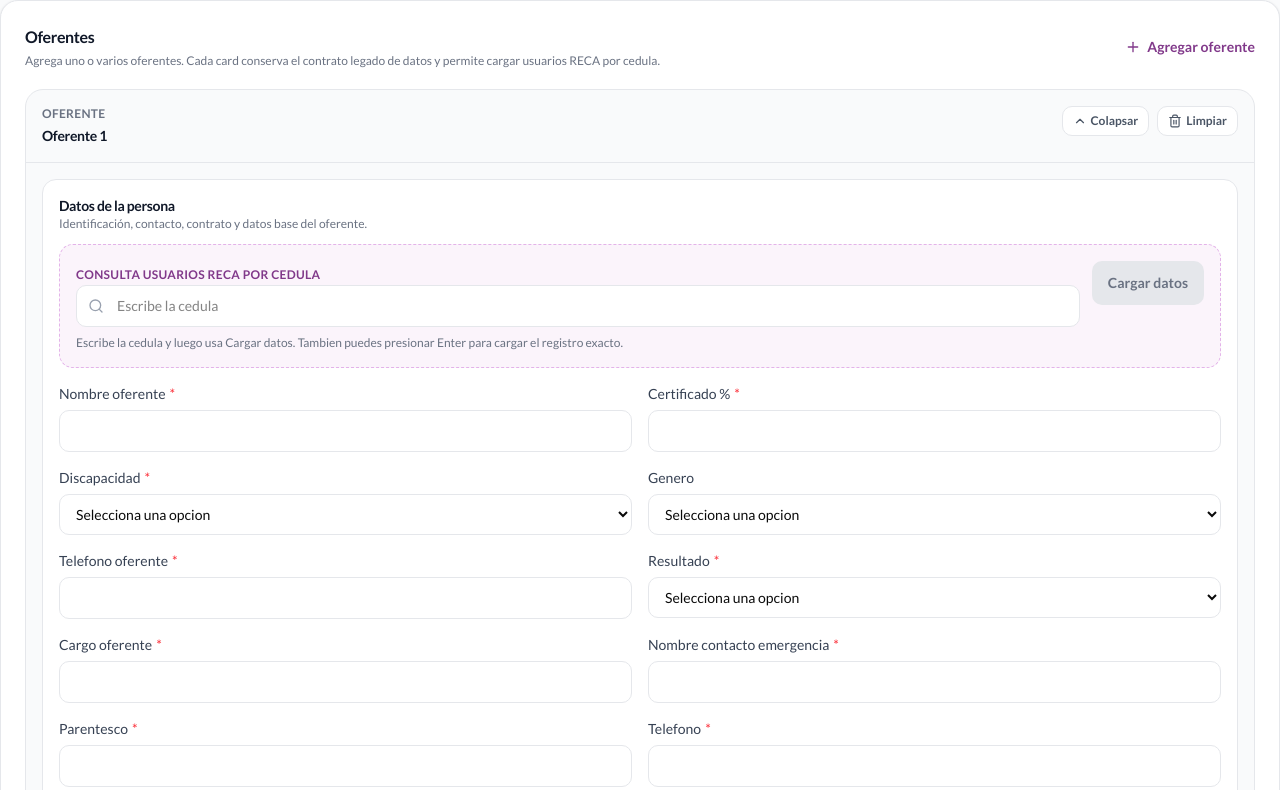
Test: SeleccionOferentesSection failed visit rows › autopuebla campos compatibles cuando una fila vacia se activa
The image size is (1280, 790).
Type "Persona nueva" into the field with test id "oferentes.0.nombre_oferente" at (346, 431), box top-left (59, 410), bottom-right (632, 452)
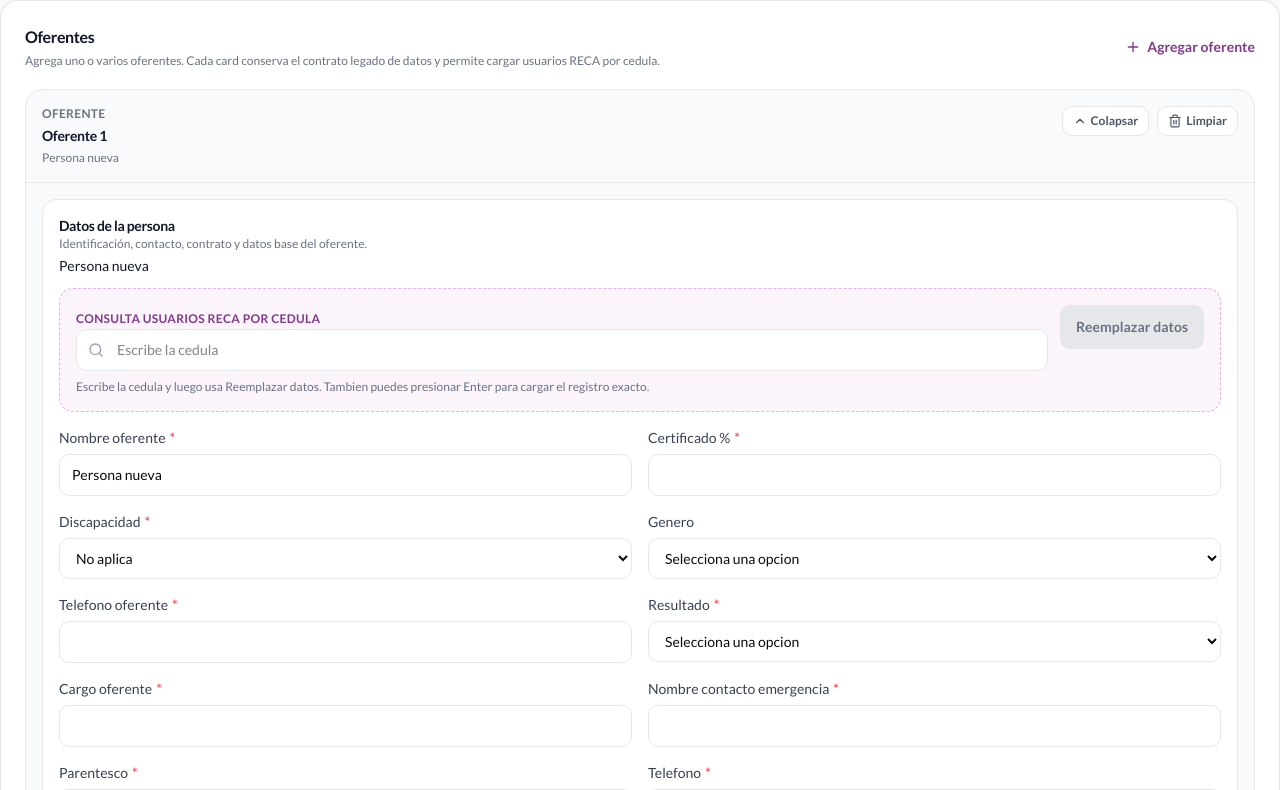
Expected: the dropdown with test id "oferentes.0.discapacidad" shows "No aplica", top-left (59, 538), bottom-right (632, 579)
